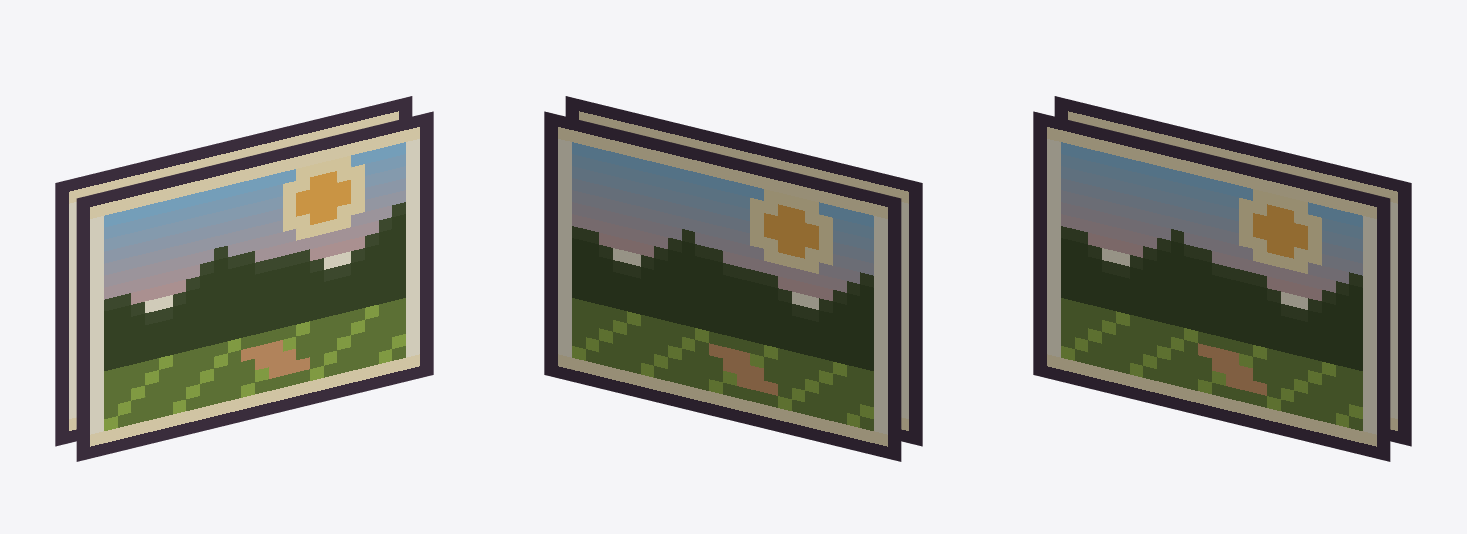
File: prop_postcard.glb
The picture shows the model from 3 angles, left to right: view 1: azimuth 30°, elevation 25°; view 2: azimuth 150°, elevation 25°; view 3: azimuth 330°, elevation 25°; orthographic projection.
Visible parts, largest first — view 1: prop_postcard; view 2: prop_postcard; view 3: prop_postcard.
Part boxes in pixels (x1,y1,x2,y2): prop_postcard: (55,96,433,461); prop_postcard: (544,96,922,461); prop_postcard: (1033,96,1411,461).
Bounding box in the file's own units: 24 × 20 × 2.
1 material, 1 textured.
